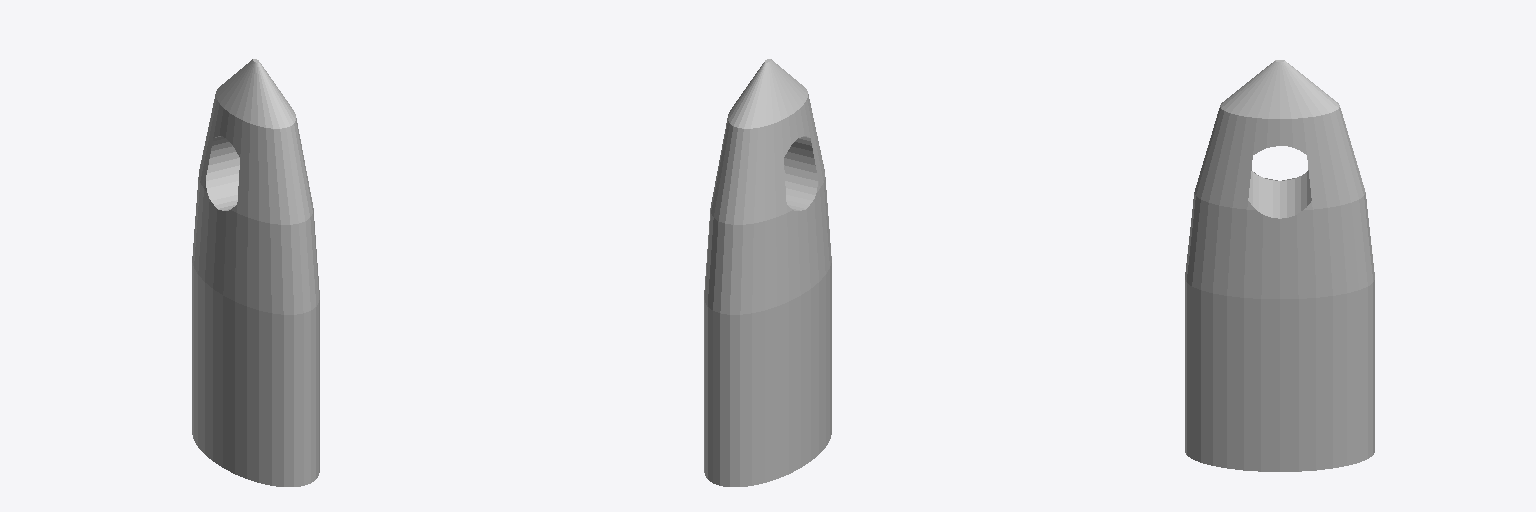
Rendered from Monument.obj.
3 renders of one model, left to right at view 1: azimuth 30°, elevation 25°; view 2: azimuth 150°, elevation 25°; view 3: azimuth 270°, elevation 25°, orthographic.
Parts seen in each view (by area): view 1: Cylinder; view 2: Cylinder; view 3: Cylinder.
Boxes of the visible parts, box(x1,y1,x2,y2) form: Cylinder: box(192, 59, 319, 486); Cylinder: box(704, 59, 831, 486); Cylinder: box(1185, 60, 1374, 471).
Size of the model in its own units: 1.04 by 4.52 by 2.